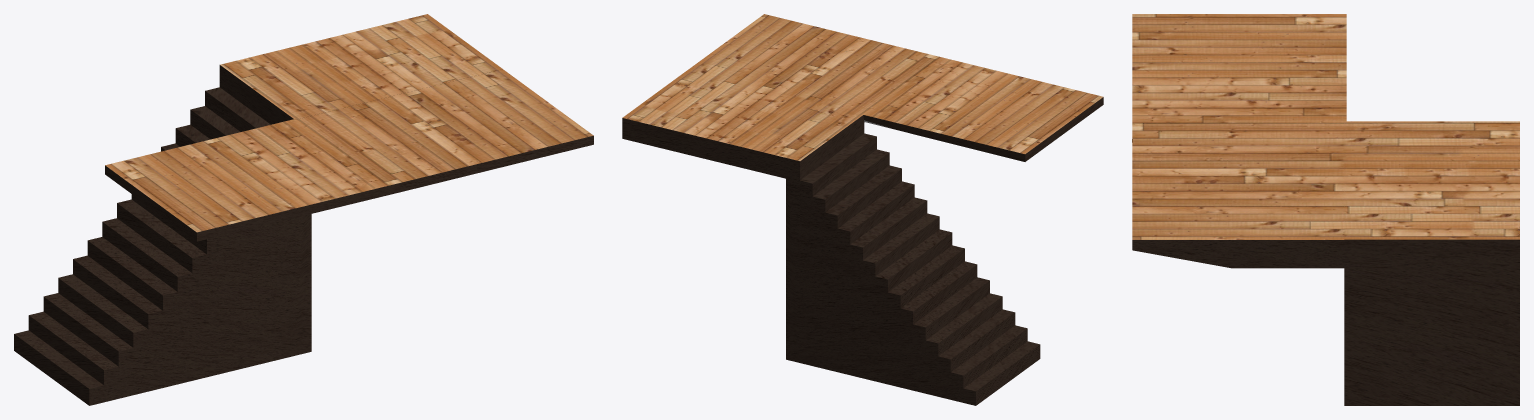
The model's file is escada.fbx.
The picture shows the model from 3 angles, left to right: view 1: azimuth 30°, elevation 25°; view 2: azimuth 150°, elevation 25°; view 3: azimuth 270°, elevation 25°; orthographic projection. The views are drawn at different scales.
Visible parts, largest first — view 1: pPlane3; view 2: pPlane3; view 3: pPlane3.
Part boxes in pixels (<box>): pPlane3: <box>14,14,593,405</box>; pPlane3: <box>622,14,1103,405</box>; pPlane3: <box>1132,14,1519,405</box>.
Bounding box in the file's own units: 5.57 × 3.04 × 3.88.
